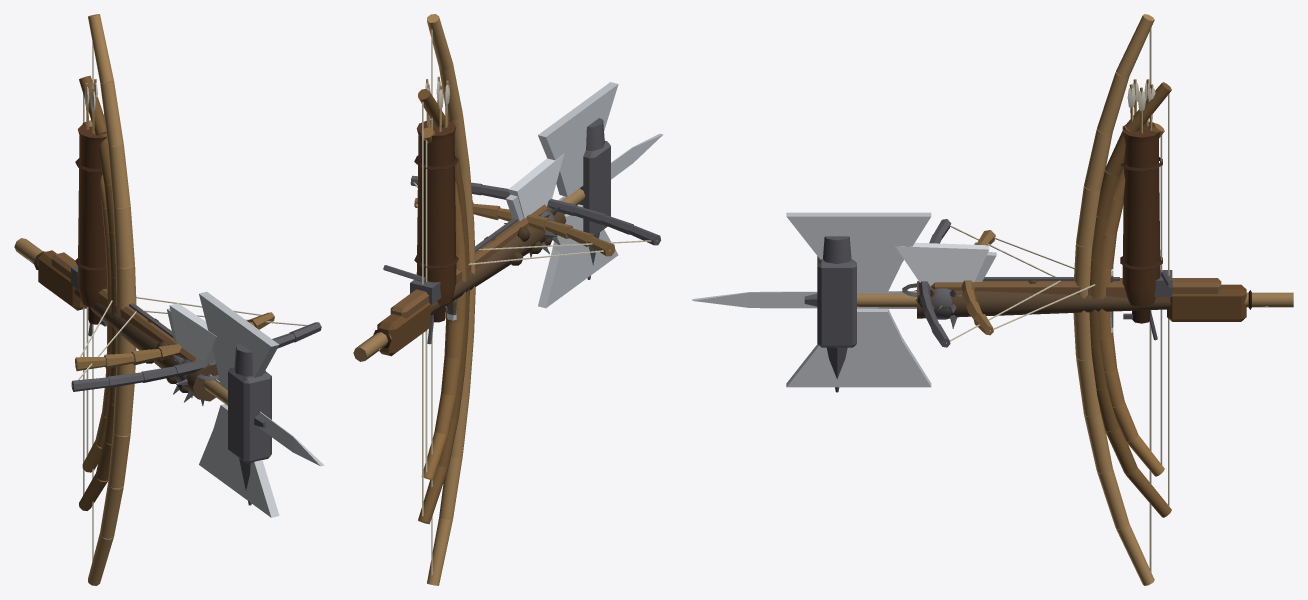
Rendered from weapons.glb.
3 views of the same model, side by side, from view 1: azimuth 30°, elevation 25°; view 2: azimuth 150°, elevation 25°; view 3: azimuth 270°, elevation 25° (orthographic).
Visible parts, largest first — view 1: bow_long, axe_2h, hammer_2h, quiver, xbow_light, bow_hunt, xbow_heavy, club_rough, bow_short, axe_alu, sword_2h; view 2: axe_2h, bow_long, quiver, xbow_light, bow_short, xbow_heavy, bow_hunt, hammer_2h, club_rough, axe_alu, sword_2h; view 3: axe_2h, bow_long, quiver, xbow_light, bow_hunt, hammer_2h, bow_short, xbow_heavy, club_rough, axe_alu, sword_2h.
Part boxes in pixels (bbox=[...]): bow_long: bbox=[88, 14, 136, 585]; axe_2h: bbox=[14, 238, 279, 517]; hammer_2h: bbox=[18, 240, 271, 505]; quiver: bbox=[75, 79, 106, 307]; xbow_light: bbox=[38, 250, 274, 371]; bow_hunt: bbox=[79, 75, 116, 510]; xbow_heavy: bbox=[39, 251, 321, 391]; club_rough: bbox=[74, 290, 219, 401]; bow_short: bbox=[82, 120, 111, 472]; axe_alu: bbox=[169, 303, 216, 364]; sword_2h: bbox=[209, 374, 324, 466]; axe_2h: bbox=[353, 82, 618, 361]; bow_long: bbox=[427, 14, 475, 585]; quiver: bbox=[414, 76, 458, 305]; xbow_light: bbox=[377, 198, 615, 356]; bow_short: bbox=[421, 127, 465, 480]; xbow_heavy: bbox=[383, 175, 660, 343]; bow_hunt: bbox=[418, 89, 469, 524]; hammer_2h: bbox=[359, 118, 610, 357]; club_rough: bbox=[430, 206, 566, 315]; axe_alu: bbox=[508, 154, 564, 218]; sword_2h: bbox=[558, 133, 663, 201]; axe_2h: bbox=[786, 212, 1293, 387]; bow_long: bbox=[1073, 14, 1154, 585]; quiver: bbox=[1120, 79, 1162, 306]; xbow_light: bbox=[957, 230, 1246, 340]; bow_hunt: bbox=[1089, 82, 1171, 517]; hammer_2h: bbox=[817, 236, 1286, 392]; bow_short: bbox=[1098, 123, 1164, 476]; xbow_heavy: bbox=[902, 219, 1217, 347]; club_rough: bbox=[916, 279, 1171, 325]; axe_alu: bbox=[895, 242, 989, 286]; sword_2h: bbox=[692, 291, 916, 308].
Bounding box in the file's own units: 0.7875 × 1.73 × 1.66.
